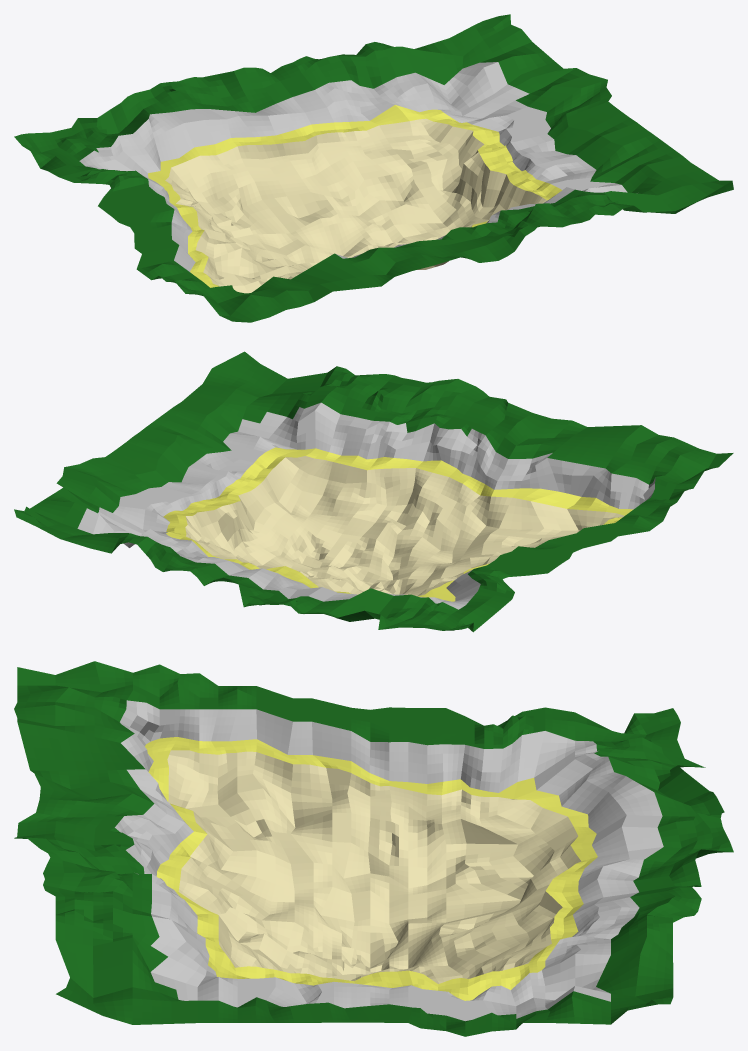
The model's file is carte.fbx.
3 views of the same model, one above another, from view 1: azimuth 30°, elevation 25°; view 2: azimuth 150°, elevation 25°; view 3: azimuth 270°, elevation 25° (orthographic). The views are drawn at different scales.
Visible parts, largest first — view 1: lake; view 2: lake; view 3: lake.
Boxes of the visible parts, x1,y1,x2,y2 form: lake: (14, 14, 733, 322); lake: (14, 351, 733, 632); lake: (14, 661, 733, 1036).
Size of the model in its own units: 28314 by 6672 by 25026.
